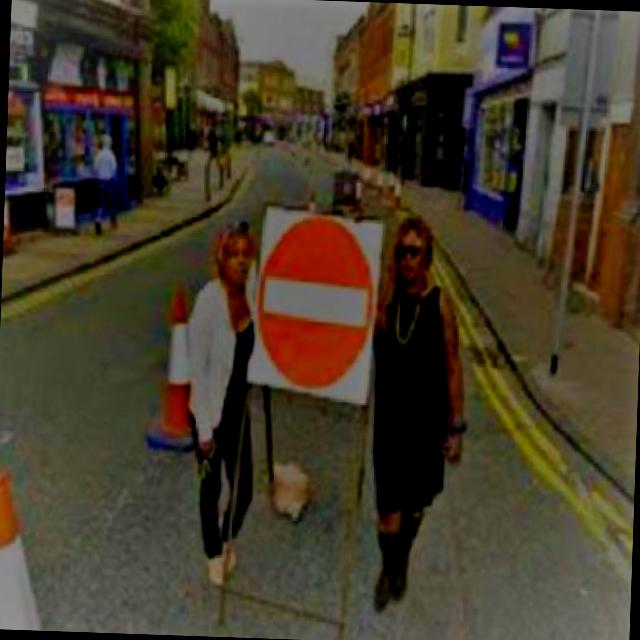Person: (358, 210, 481, 620), (170, 211, 264, 594)
